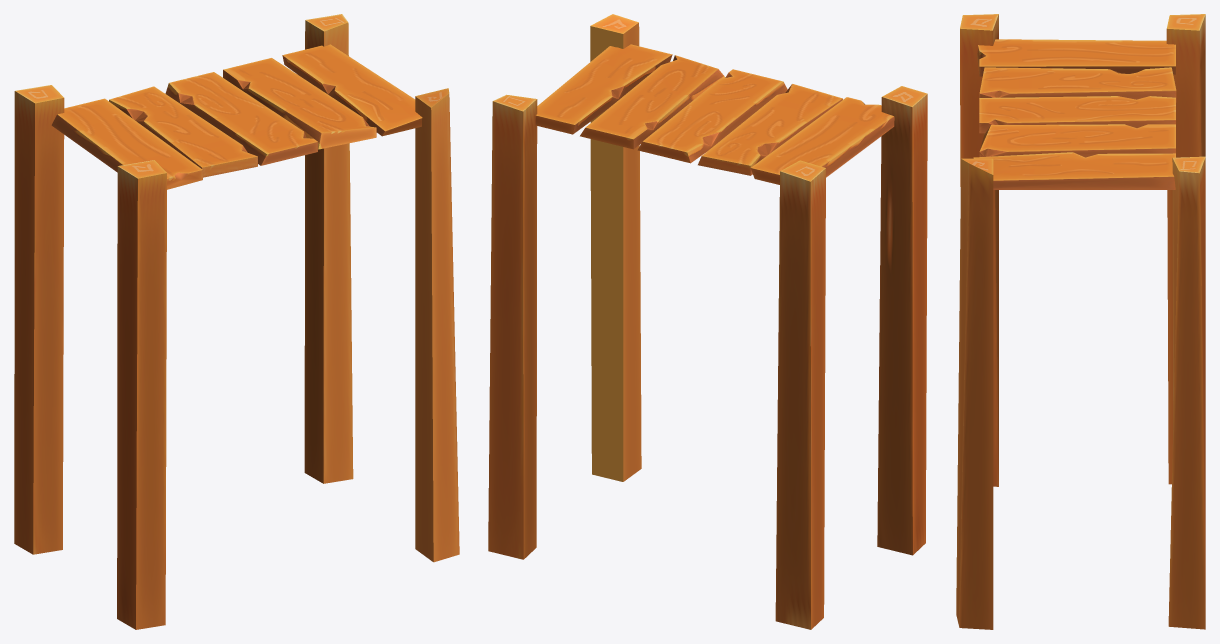
Rendered from Bridge.FBX.
3 views of the same model, side by side, from view 1: azimuth 30°, elevation 25°; view 2: azimuth 150°, elevation 25°; view 3: azimuth 270°, elevation 25° (orthographic).
Parts seen in each view (by area): view 1: Bridge_mod; view 2: Bridge_mod; view 3: Bridge_mod.
Part boxes in pixels (x1,y1,x2,y2): Bridge_mod: (14, 14, 459, 629); Bridge_mod: (488, 14, 927, 629); Bridge_mod: (956, 14, 1205, 629).
Bounding box in the file's own units: 8.9 × 11.86 × 5.81.
